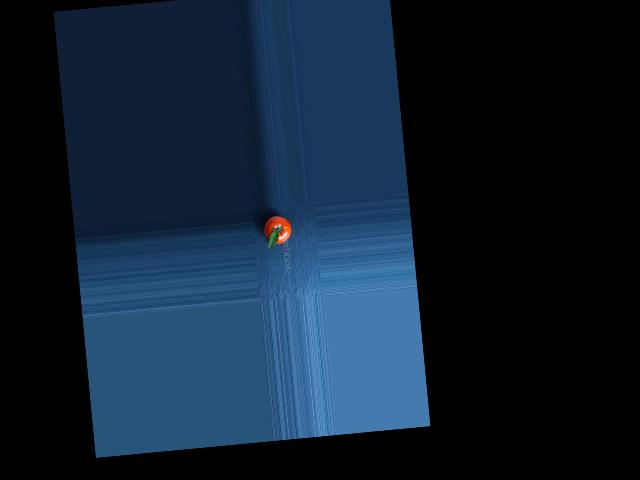tomato: (263, 214, 292, 245)
